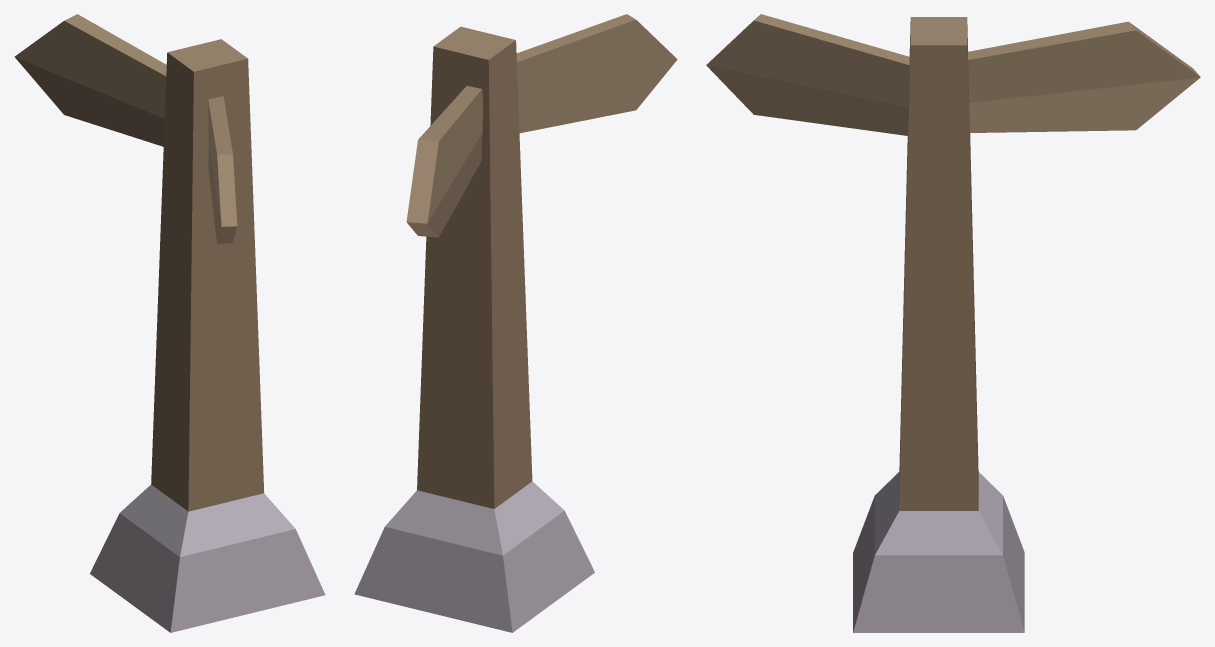
Rendered from sign.glb.
The picture shows the model from 3 angles, left to right: view 1: azimuth 30°, elevation 25°; view 2: azimuth 150°, elevation 25°; view 3: azimuth 270°, elevation 25°; orthographic projection. The views are drawn at different scales.
Visible parts, largest first — view 1: Sign.001; view 2: Sign.001; view 3: Sign.001.
Boxes of the visible parts, x1=… form: Sign.001: x1=14, y1=14, x2=325, y2=632; Sign.001: x1=354, y1=14, x2=677, y2=632; Sign.001: x1=706, y1=14, x2=1200, y2=632.
Bounding box in the file's own units: 0.7127 × 2.12 × 1.69.
